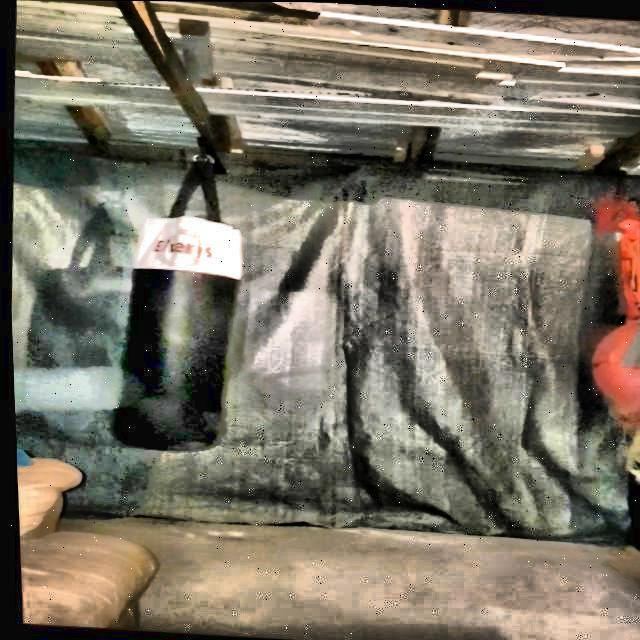boxing-bag: (101, 132, 252, 464)
